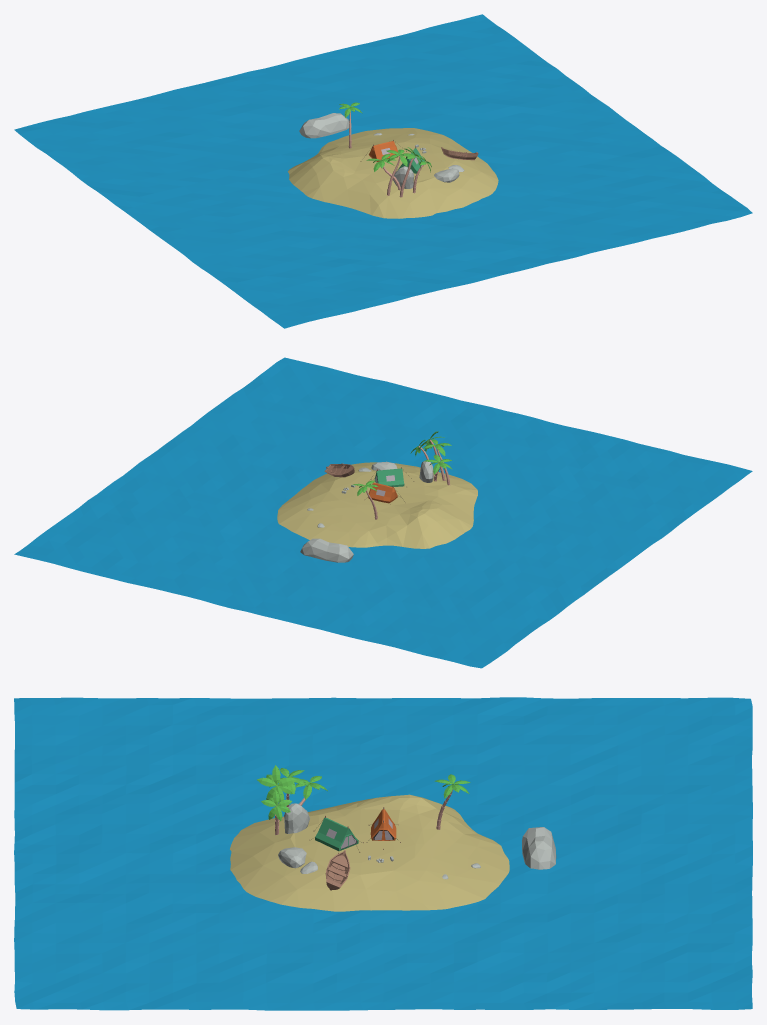
Rendered from lowpoly island.fbx.
3 renders of one model, top to bottom at view 1: azimuth 30°, elevation 25°; view 2: azimuth 150°, elevation 25°; view 3: azimuth 270°, elevation 25°, orthographic. The views are drawn at different scales.
Visible parts, largest first — view 1: lowpoly_island; view 2: lowpoly_island; view 3: lowpoly_island.
Boxes of the visible parts, <box> form: lowpoly_island: <box>14,14,752,328</box>; lowpoly_island: <box>14,357,752,668</box>; lowpoly_island: <box>14,697,752,1010</box>.
Bounding box in the file's own units: 3000 × 512 × 3001.
1 material, 1 textured.
